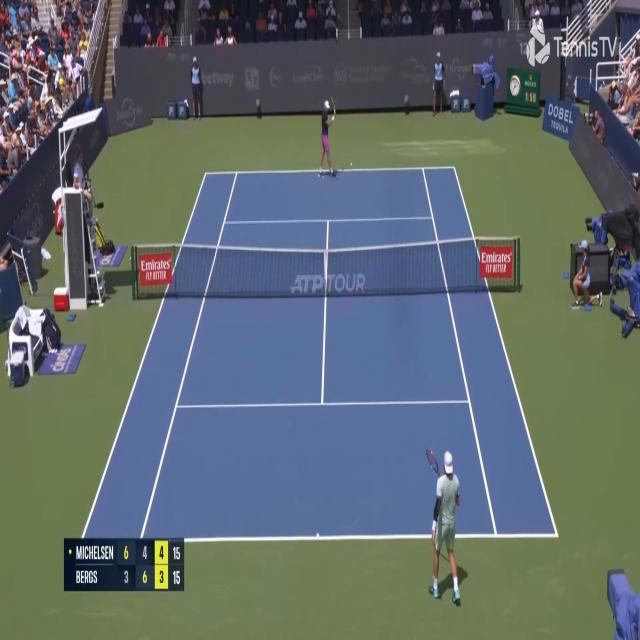tennis-player: (427, 441, 469, 606), (317, 96, 338, 180)
